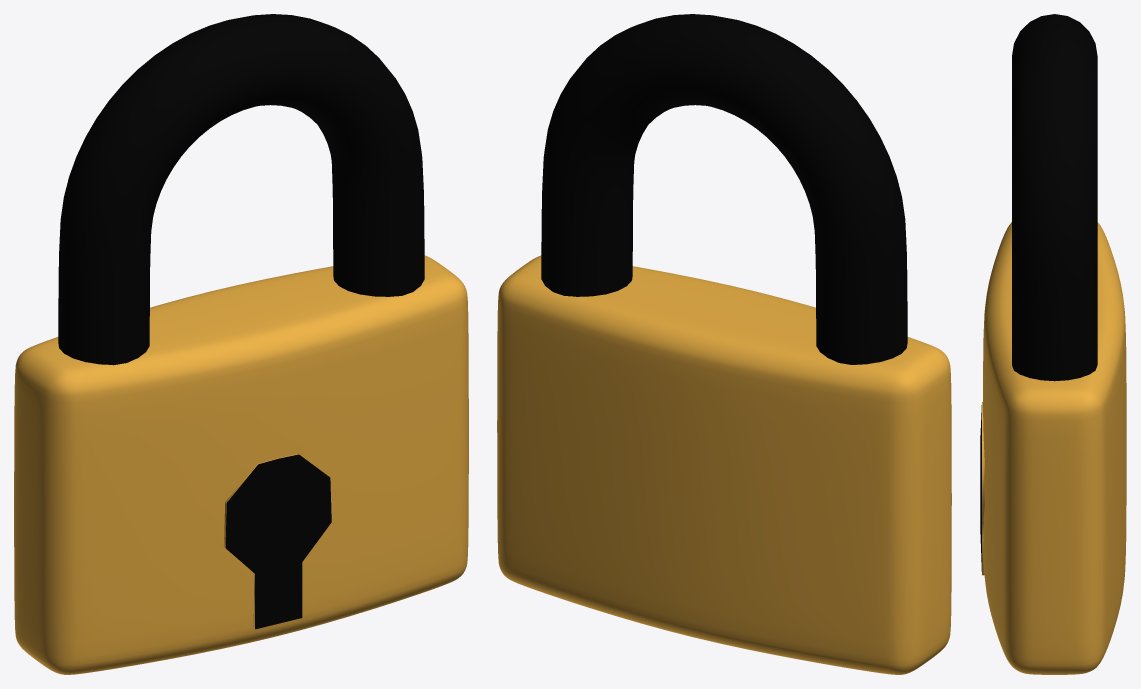
The model's file is Lock Animation.fbx.
3 renders of one model, left to right at view 1: azimuth 30°, elevation 25°; view 2: azimuth 150°, elevation 25°; view 3: azimuth 270°, elevation 25°, orthographic. The views are drawn at different scales.
Parts seen in each view (by area): view 1: Lock; view 2: Lock; view 3: Lock.
Boxes of the visible parts, bbox=[...] form: Lock: bbox=[14, 14, 468, 674]; Lock: bbox=[497, 14, 951, 674]; Lock: bbox=[980, 14, 1126, 674].
Size of the model in its own units: 200 by 268 by 63.89.
